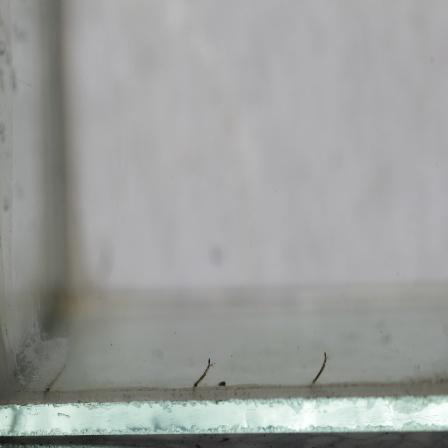Jentik-Nyamuk: (191, 354, 215, 389), (308, 350, 331, 386)
